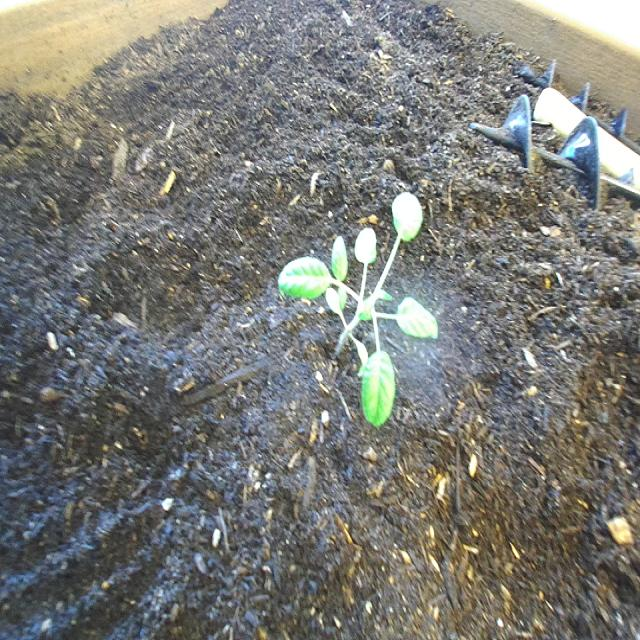Healthy: (273, 183, 444, 443)
